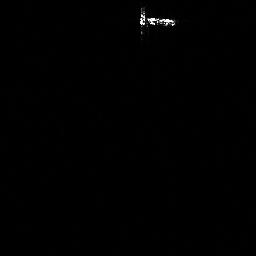ship: (136, 10, 176, 29)
